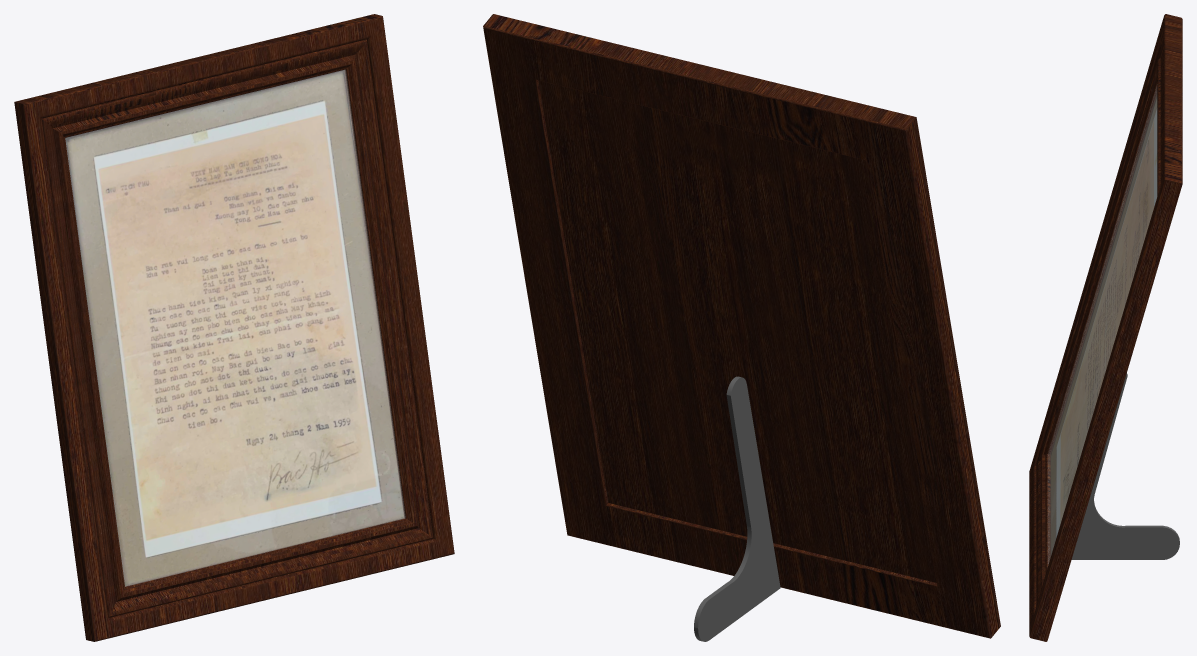
The model's file is huy_hieu_quoc_huy.glb.
3 renders of one model, left to right at view 1: azimuth 30°, elevation 25°; view 2: azimuth 150°, elevation 25°; view 3: azimuth 270°, elevation 25°, orthographic. The views are drawn at different scales.
Visible parts, largest first — view 1: Mesh1_Glass_0, Mesh3_Model_13_2_1_0, Mesh2_wood_table_0; view 2: Mesh3_wood_table_0, Mesh2_wood_table_0, Mesh4_PDM_Black_plastic_VP_Picture_1_0; view 3: Mesh2_wood_table_0, Mesh1_Glass_0, Mesh3_Model_13_2_1_0, Mesh4_PDM_Black_plastic_VP_Picture_1_0.
Part boxes in pixels (box(x1,y1,x2,y2)): Mesh1_Glass_0: box(65, 70, 405, 586); Mesh3_Model_13_2_1_0: box(65, 70, 403, 585); Mesh2_wood_table_0: box(14, 14, 454, 641); Mesh3_wood_table_0: box(538, 80, 936, 582); Mesh2_wood_table_0: box(483, 14, 1000, 638); Mesh4_PDM_Black_plastic_VP_Picture_1_0: box(694, 376, 780, 641); Mesh2_wood_table_0: box(1029, 14, 1182, 641); Mesh1_Glass_0: box(1048, 86, 1156, 564); Mesh3_Model_13_2_1_0: box(1051, 96, 1157, 555); Mesh4_PDM_Black_plastic_VP_Picture_1_0: box(1071, 373, 1179, 559).
Bounding box in the file's own units: 3 × 3.9 × 1.17.
Materials: 4 (2 with a texture image).
